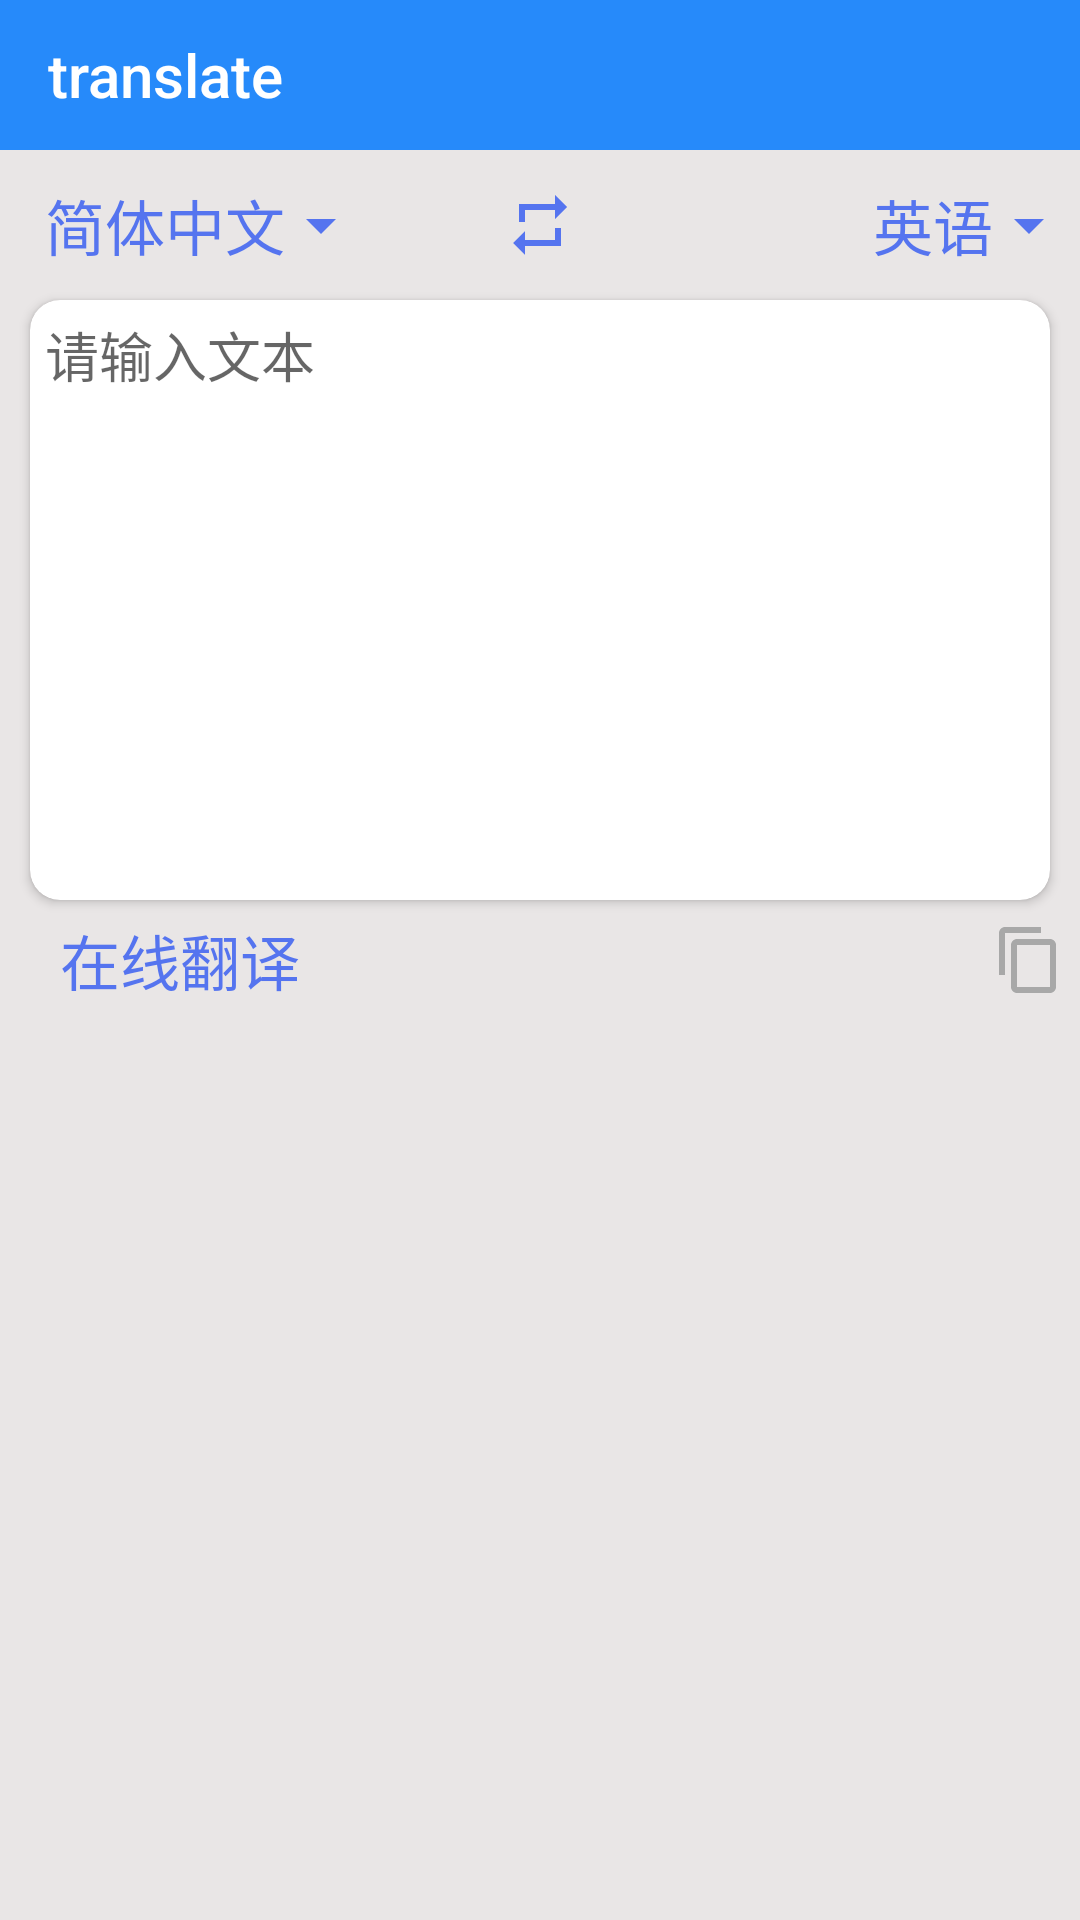

Icons on this 1080×1920 Android screen, each with the point to tap as (x,y):
switcher: (540,225)
